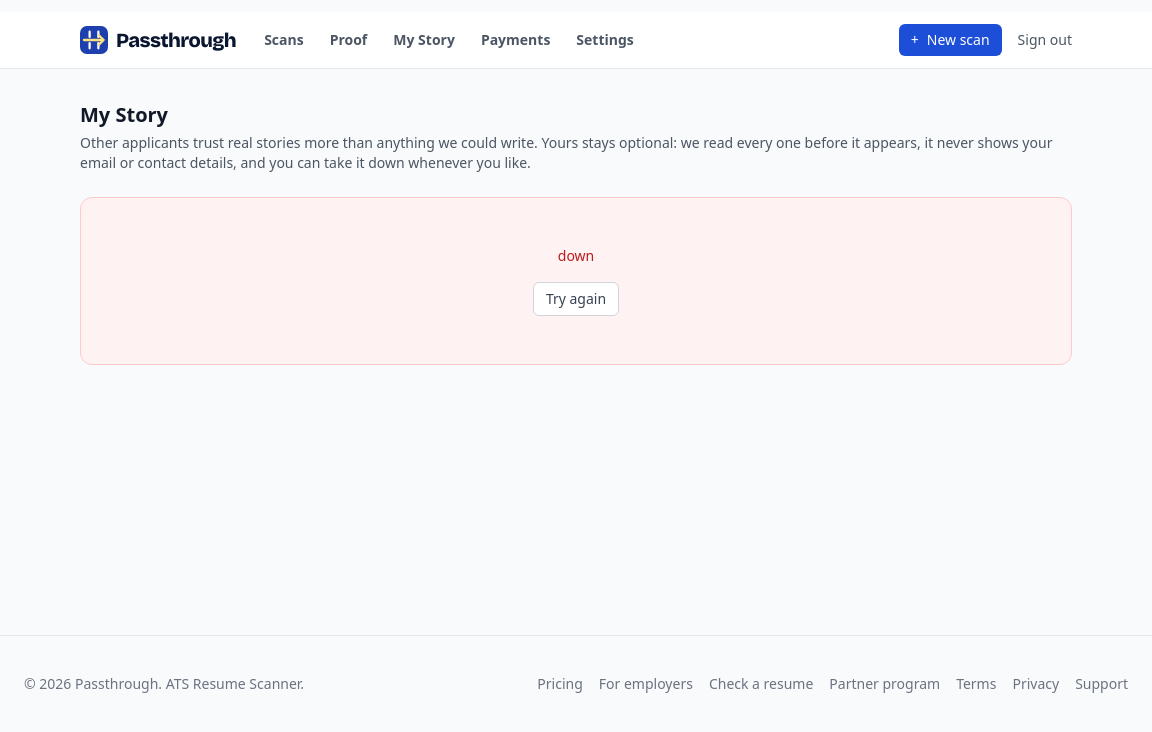
Test: My Story › a failed load shows an error with a retry, and the retry works
Expected: the message shows "down", [558, 246, 594, 265]
Click the button "Try again" at (576, 299), box [533, 282, 619, 316]
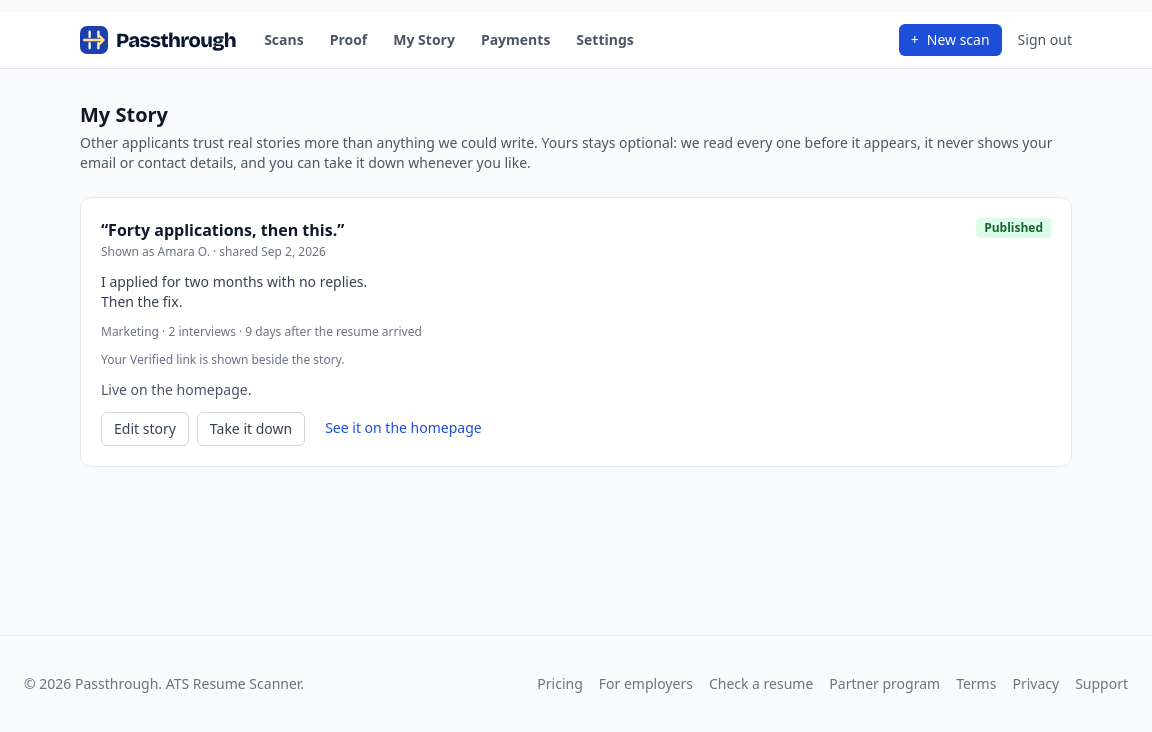
Expected: the text "Published" is shown, [976, 218, 1051, 238]
